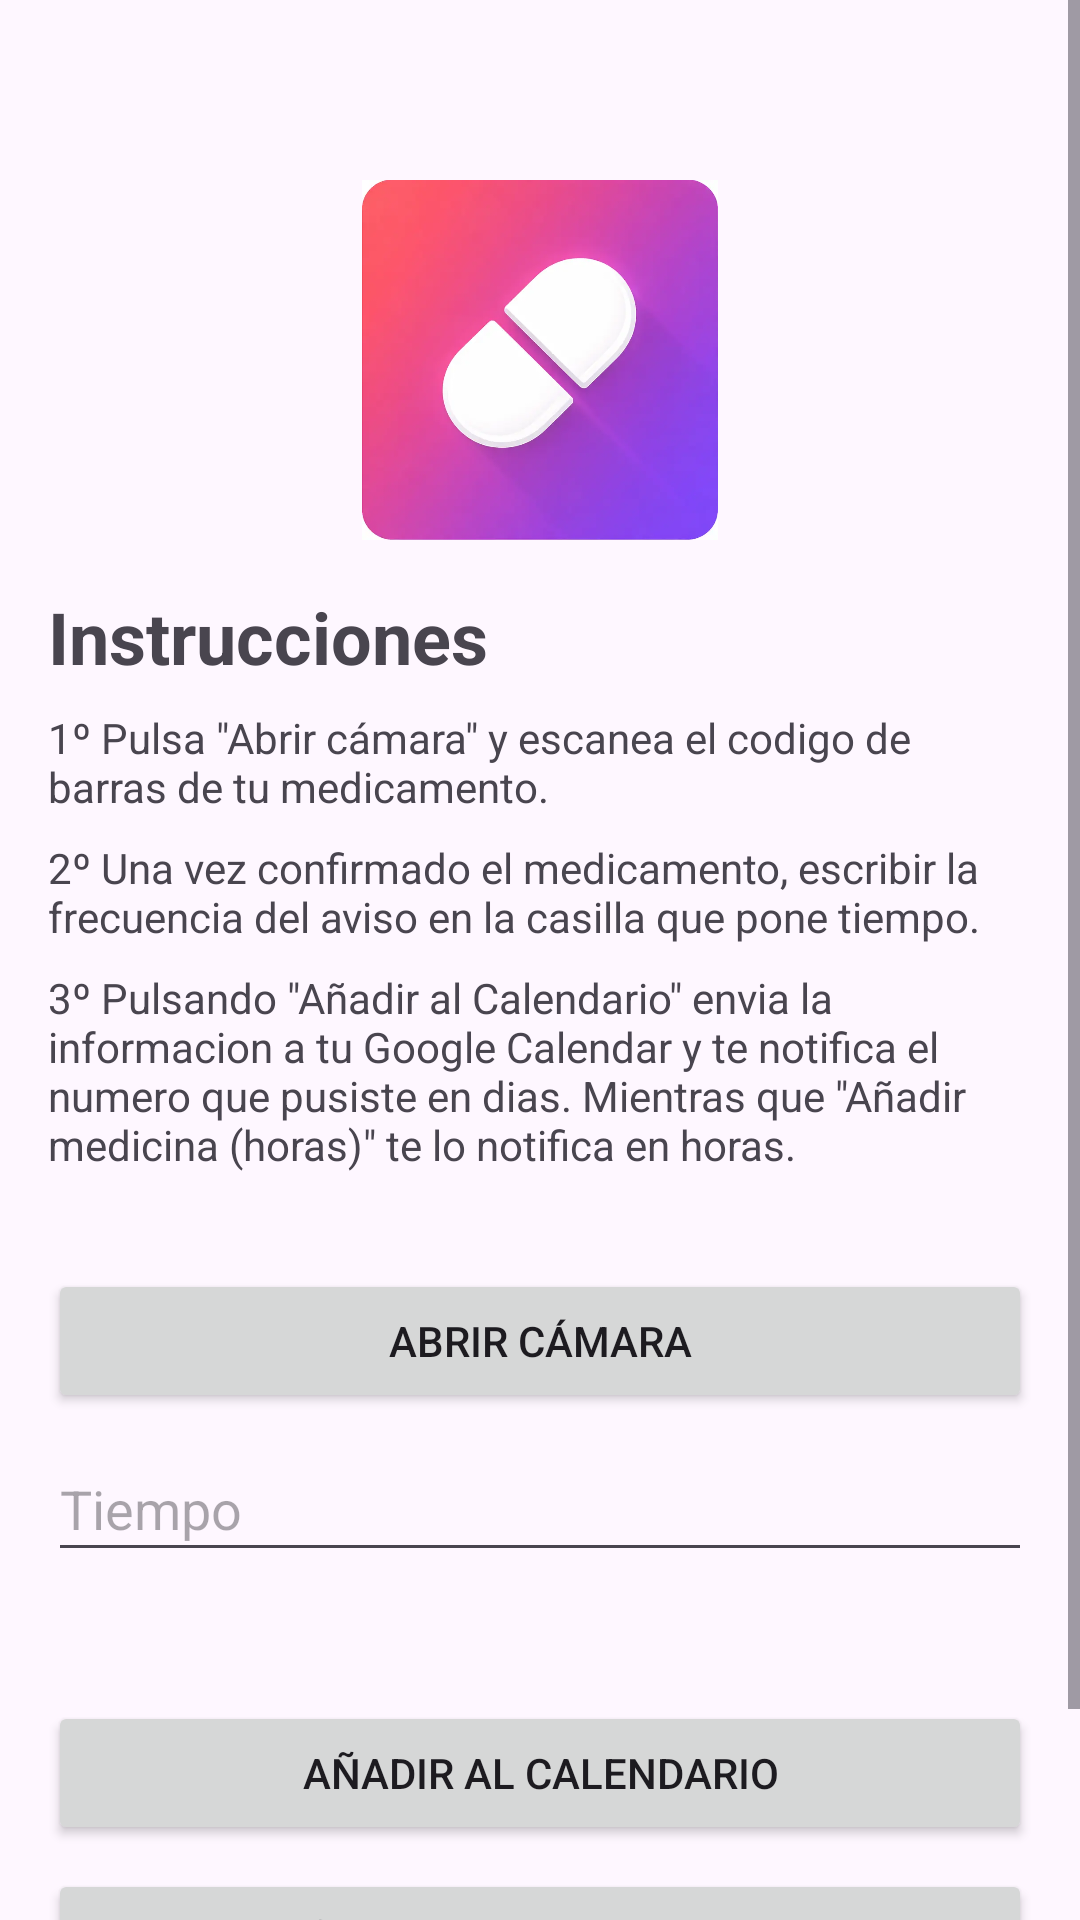

Point at icon controls on the screen. Image size 1080×1920, points as [x,y].
pastilla: [540,360]
